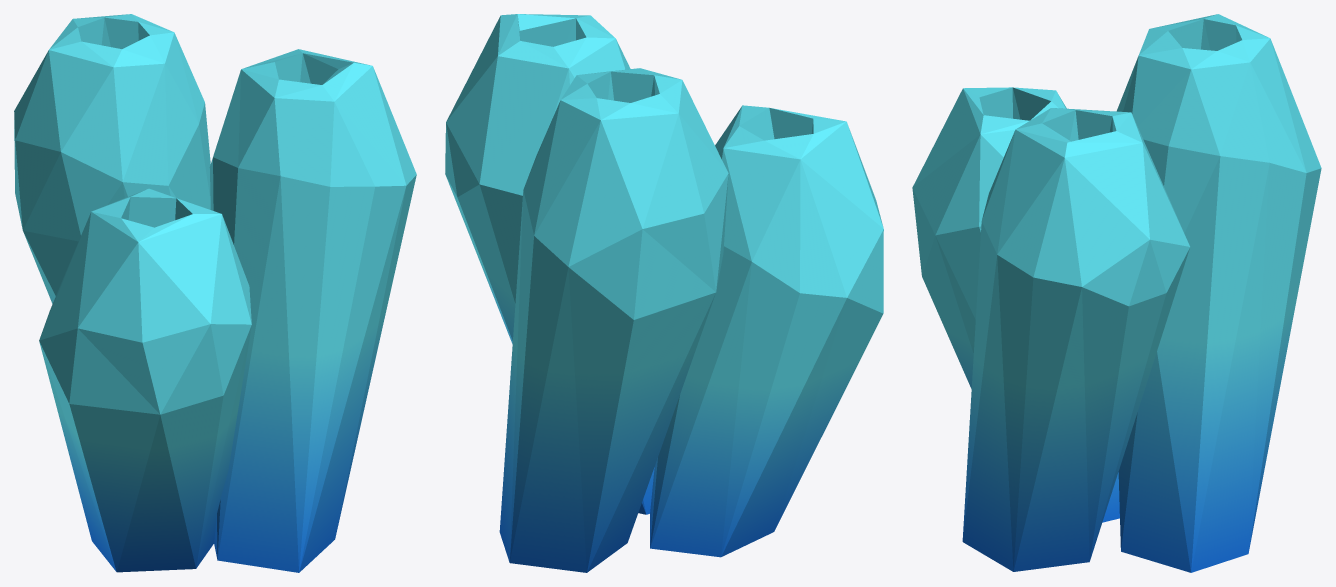
File: SM_Spongia_8.fbx
3 renders of one model, left to right at view 1: azimuth 30°, elevation 25°; view 2: azimuth 150°, elevation 25°; view 3: azimuth 270°, elevation 25°, orthographic. The views are drawn at different scales.
Parts seen in each view (by area): view 1: Spongia_8; view 2: Spongia_8; view 3: Spongia_8.
Part boxes in pixels (x1=…): Spongia_8: x1=14, y1=14, x2=416, y2=572; Spongia_8: x1=445, y1=14, x2=883, y2=572; Spongia_8: x1=912, y1=14, x2=1321, y2=572.
Bounding box in the file's own units: 82.07 × 97.57 × 76.29.
